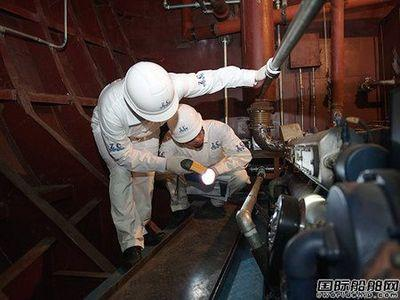boots: (166, 205, 193, 229), (194, 200, 226, 219), (143, 220, 167, 245), (122, 245, 143, 267)
gloves: (255, 57, 281, 81), (166, 155, 193, 176)
hard-hat: (122, 61, 178, 123), (167, 103, 203, 143)
person: (90, 58, 279, 267), (159, 102, 253, 228)
ppe-suit: (93, 59, 233, 247), (158, 105, 253, 219)
